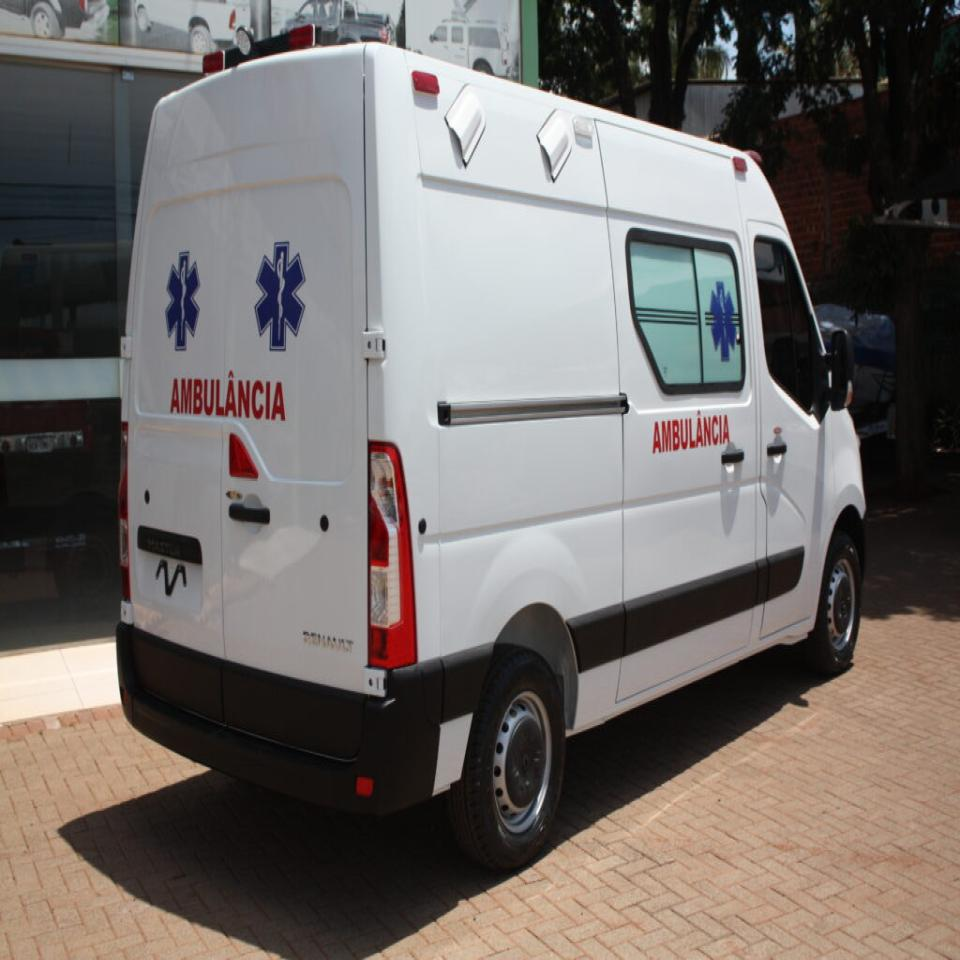bombeiro: (108, 35, 875, 858)
